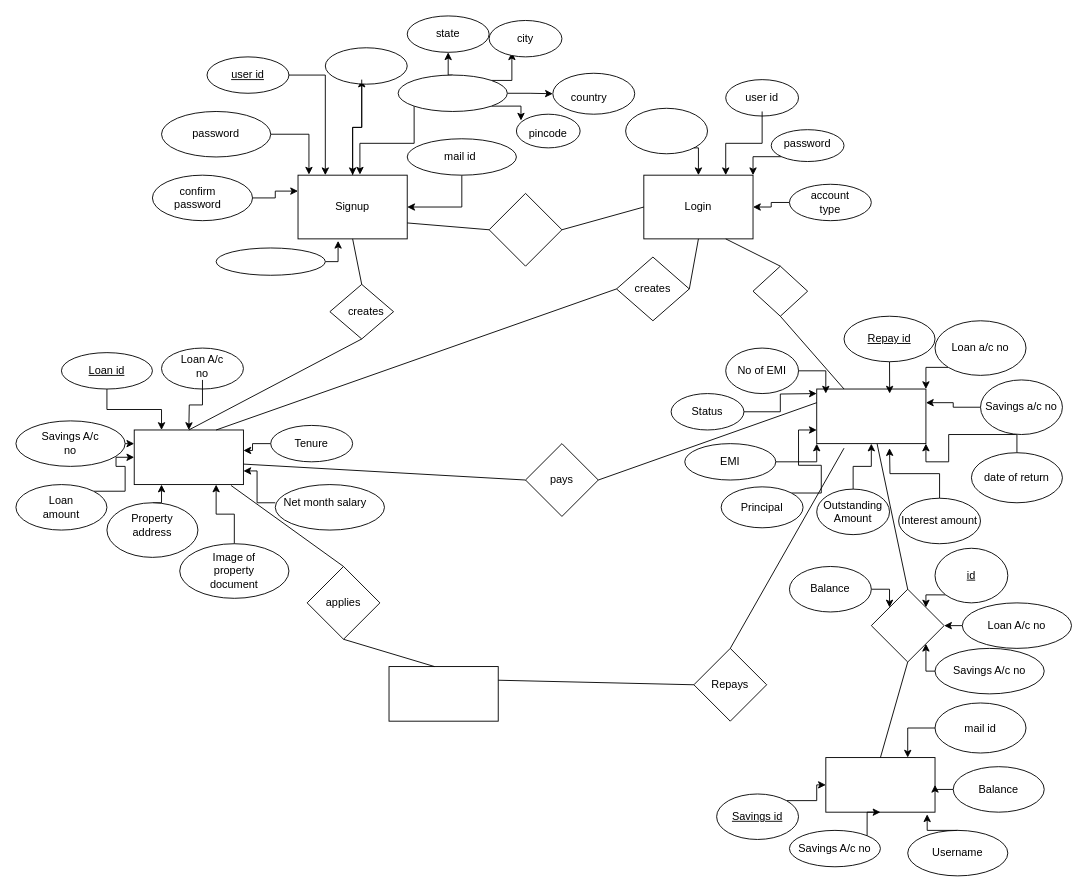
This 1087x892 diagram has some shape labels left out. Here are the shapes that lost their labels. From the top down, the centre of each, then its label:
At pixel 365 65: "user name".
At pixel 452 92: "address".
At pixel 666 130: "login id".
At pixel 525 229: "sign in".
At pixel 270 261: "mobile no.".
At pixel 780 290: "logins".
At pixel 871 416: "Loan Repayment".
At pixel 188 457: "Loan Application".
At pixel 907 625: "Transactions".
At pixel 443 693: "Loan Account".
At pixel 880 784: "Savings Account".
